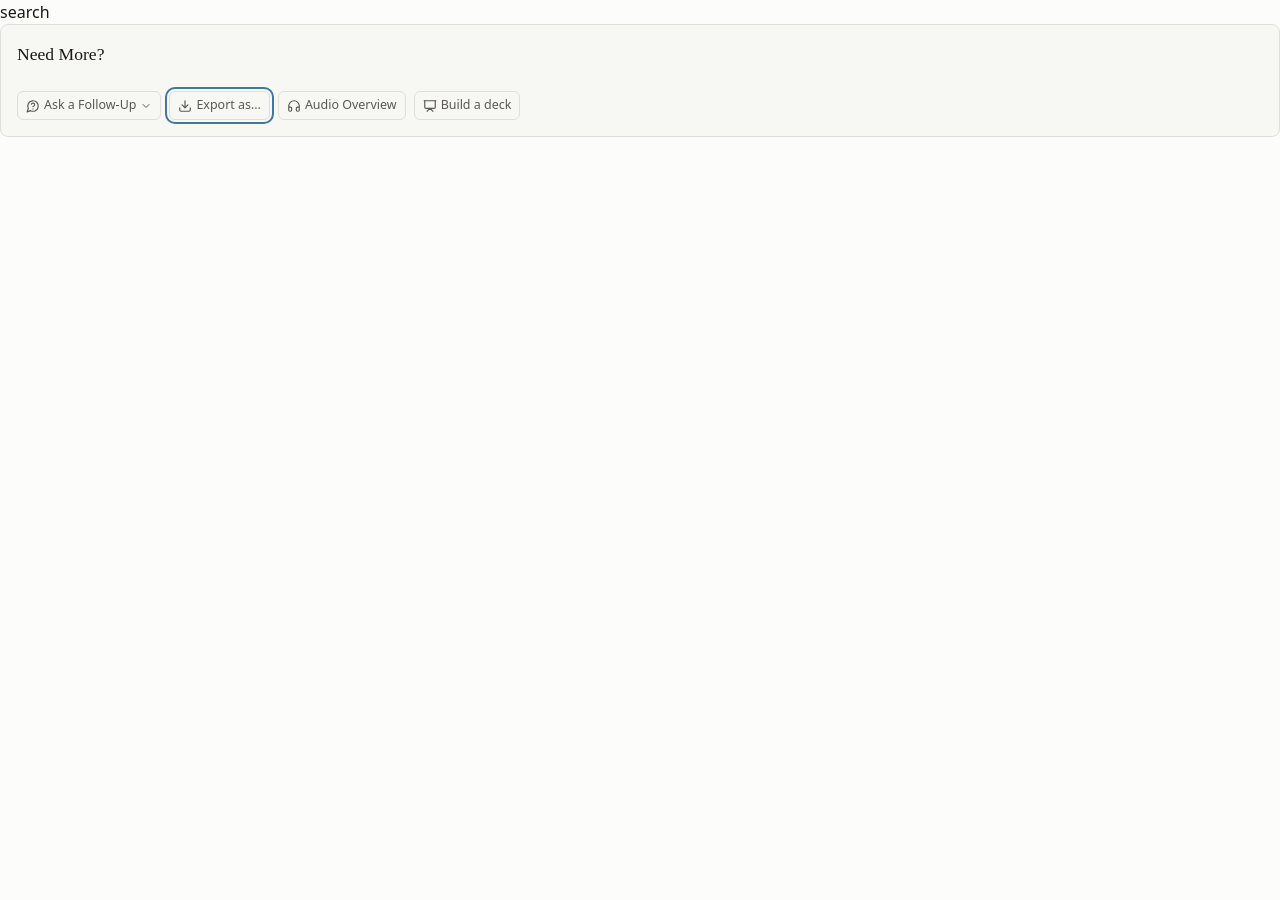
Test case: NeedMoreCard › restores the original export invoker after Export with 1 follow-up then Close
Press Enter
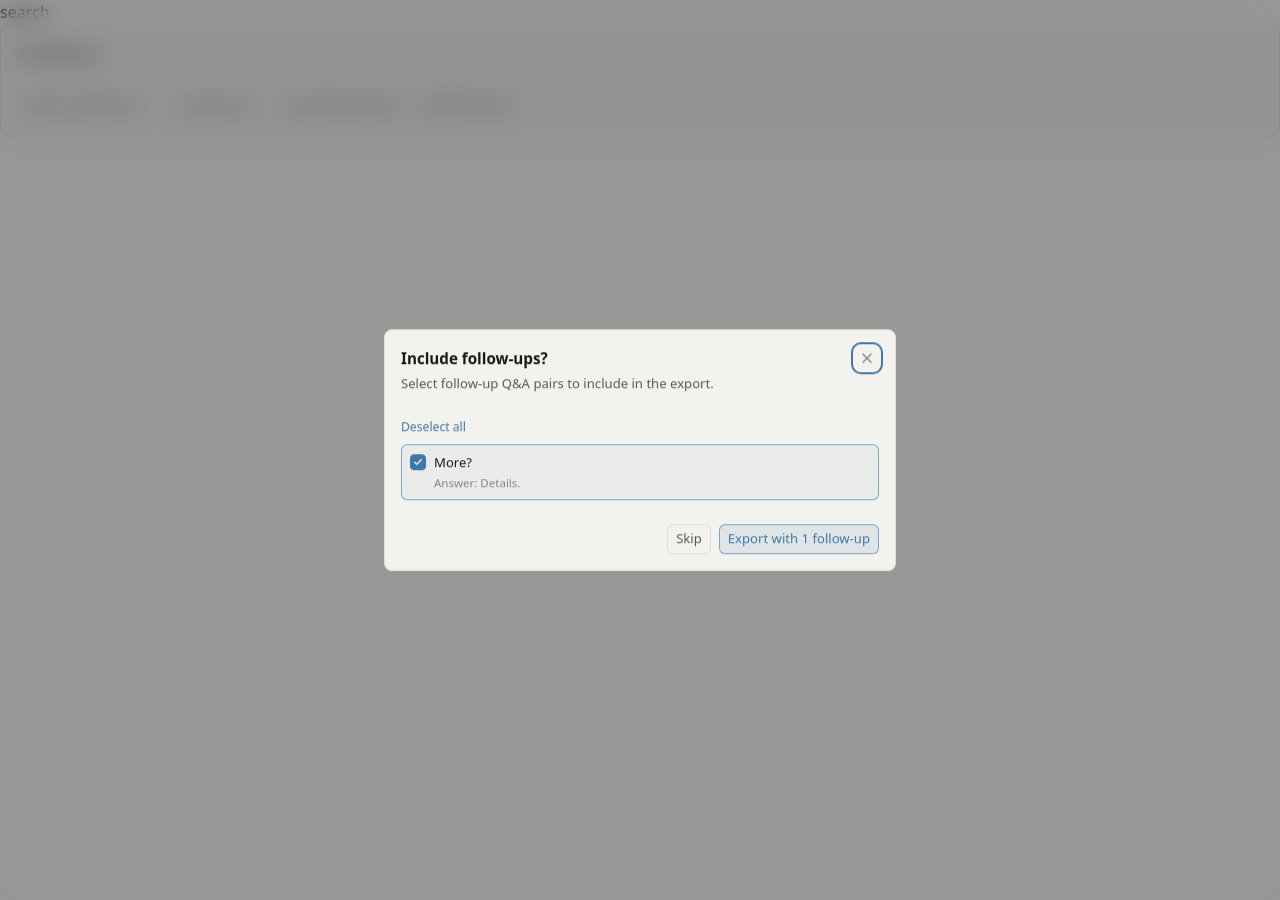
Click the button "Export with 1 follow-up" at [799, 539], box [719,524,879,554]
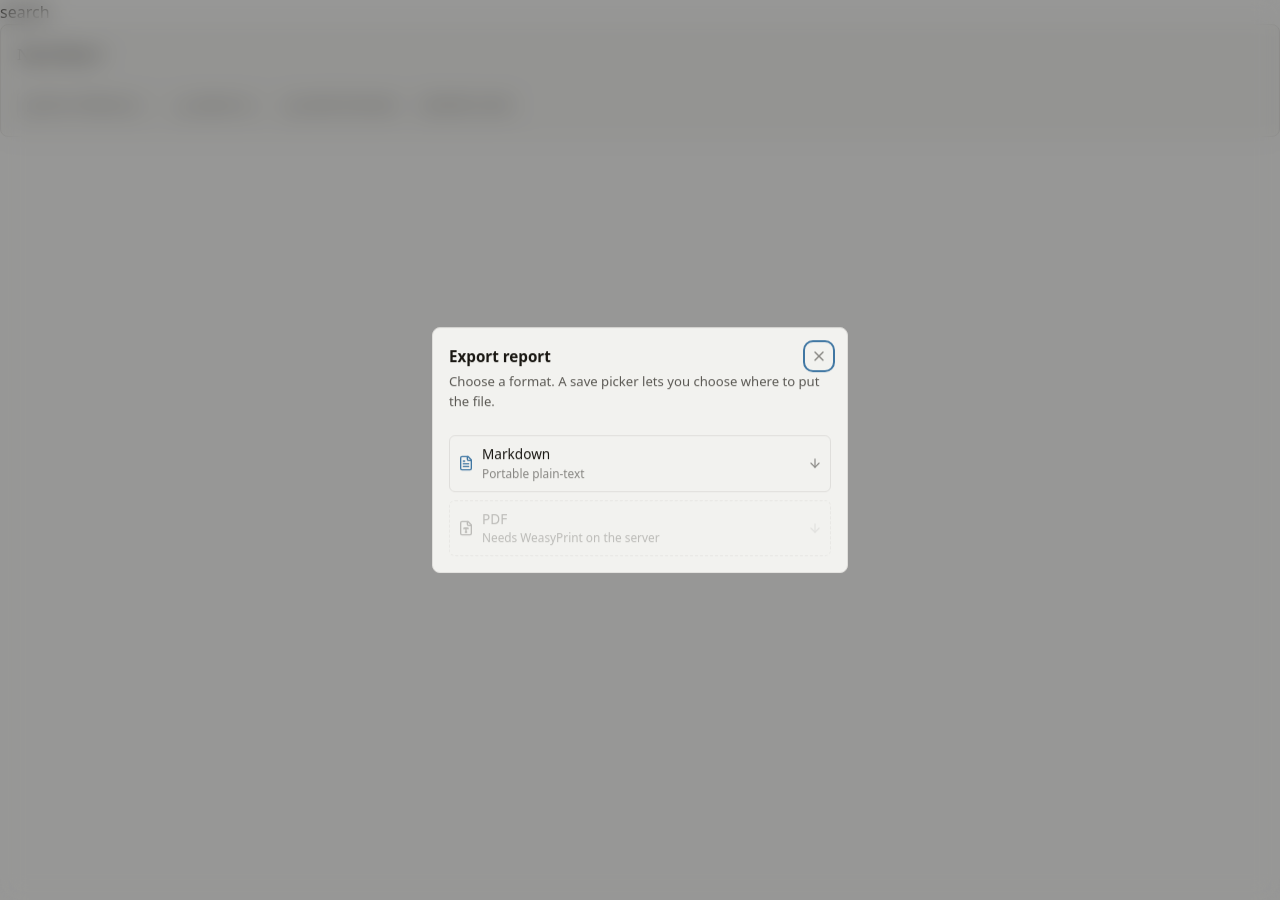
Press Tab
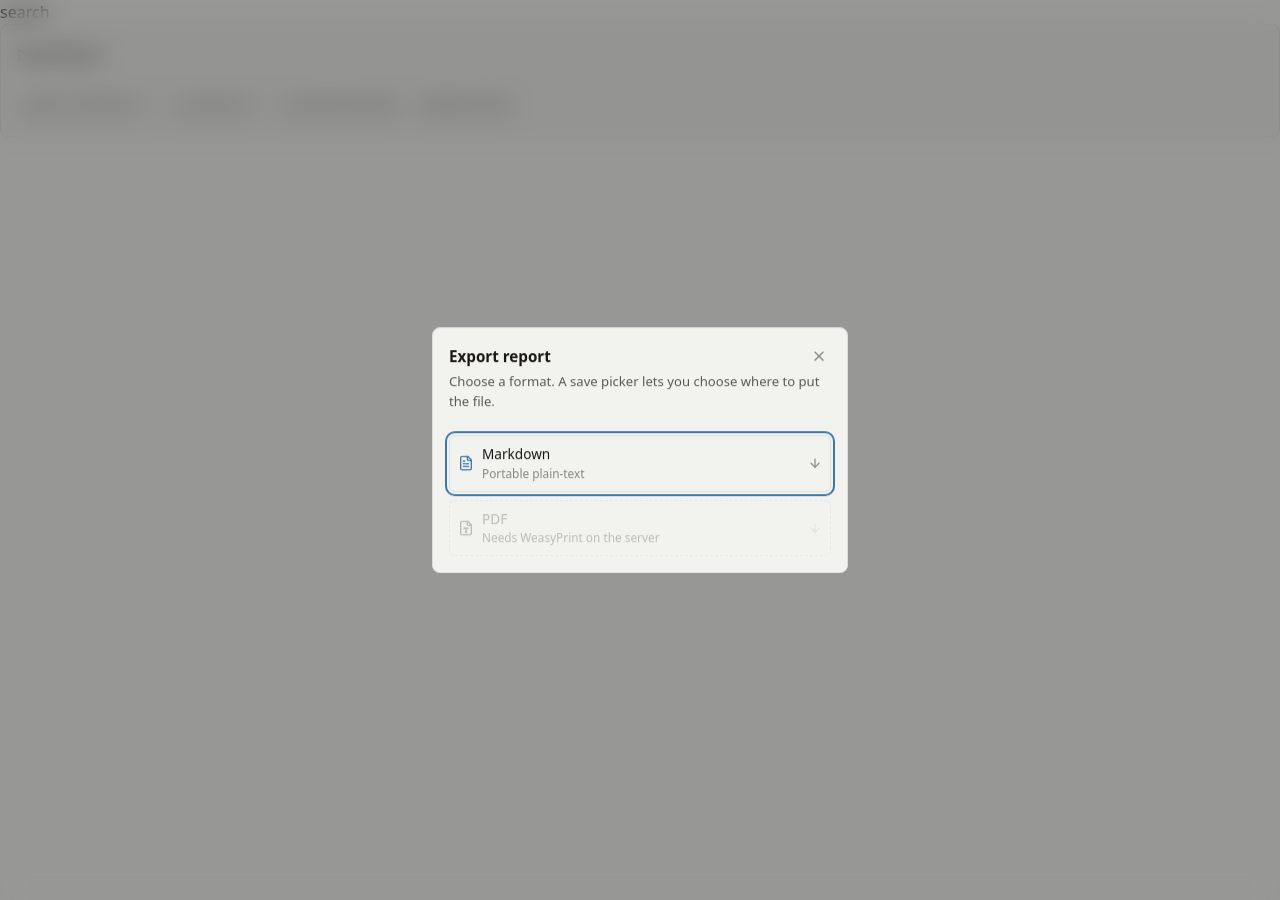
Click the button named "Close export dialog" at [819, 356], box [807,344,831,368]
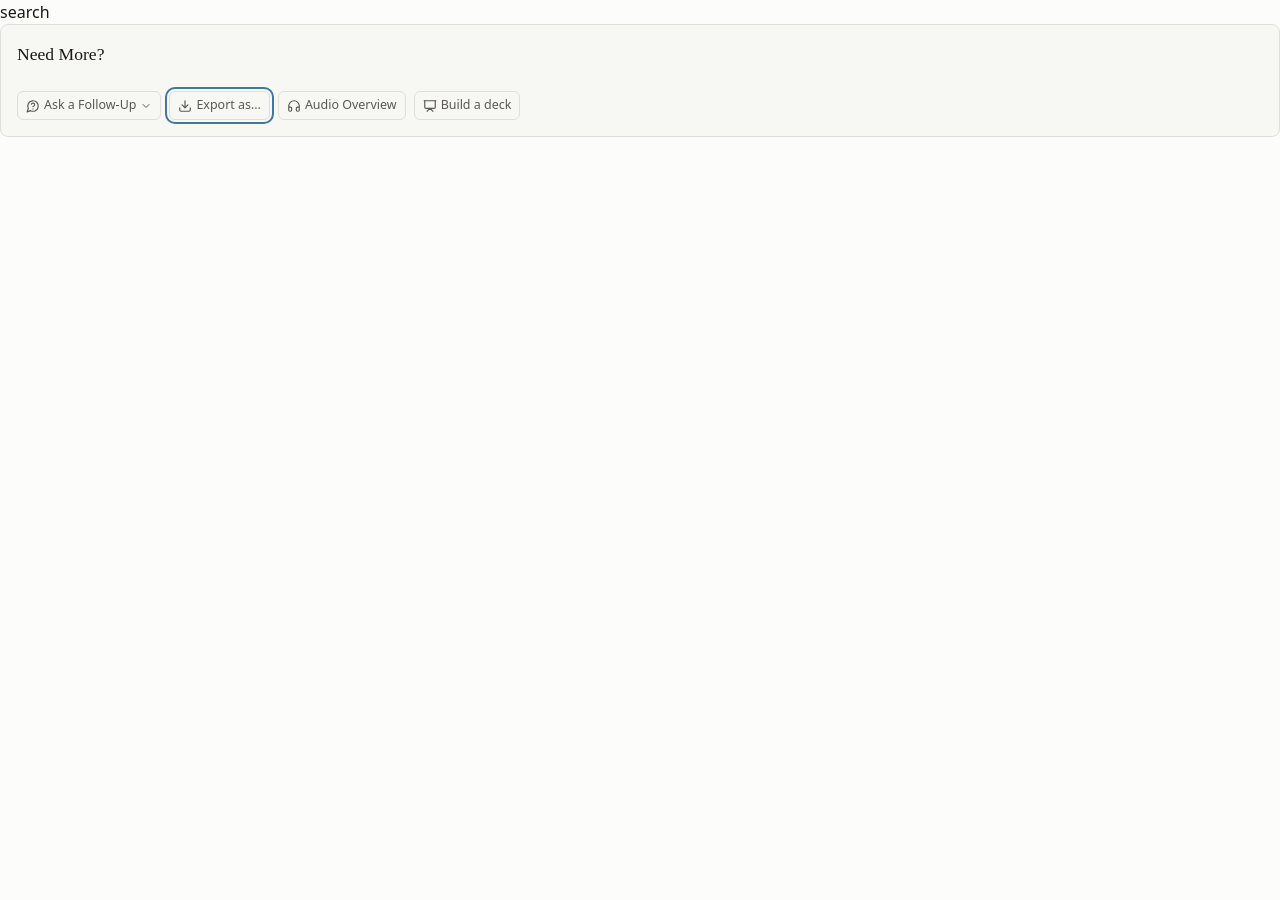
Check: the dialog is gone
